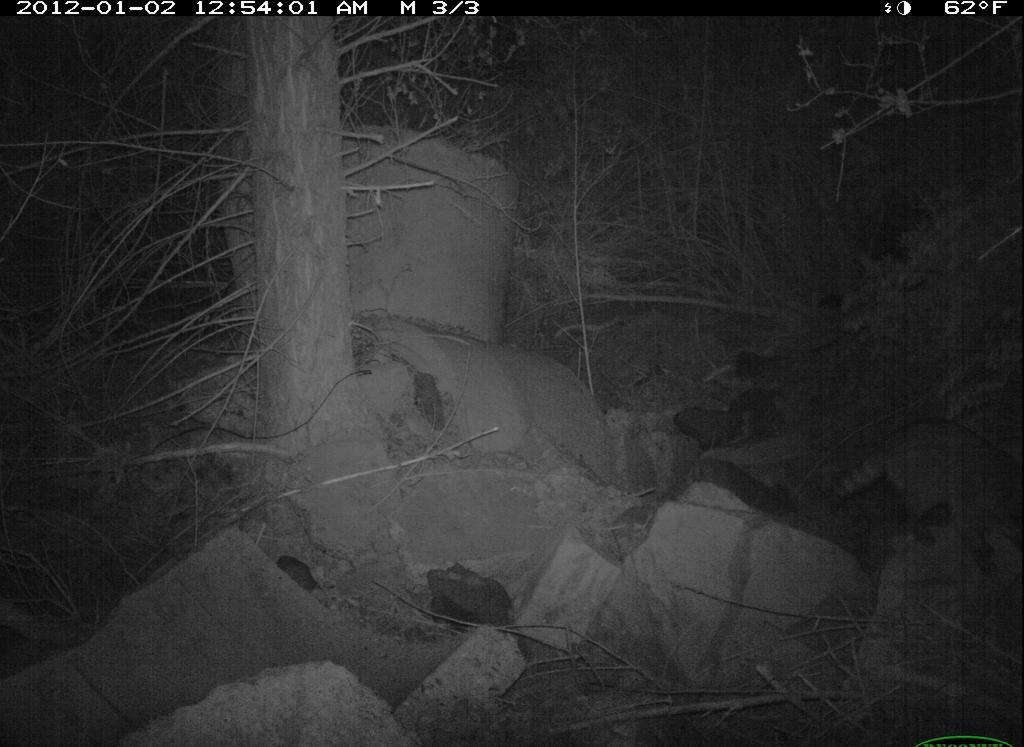raccoon: (833, 399, 1023, 575)
